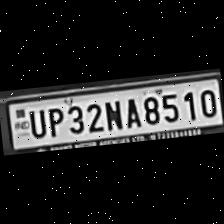0: (194, 86, 218, 118)
1: (178, 88, 198, 122)
2: (83, 99, 104, 134)
3: (64, 100, 85, 136)
5: (158, 89, 182, 125)
8: (139, 92, 161, 126)
A: (120, 94, 142, 130)
N: (101, 96, 123, 132)
P: (44, 104, 66, 138)
U: (25, 105, 46, 138)
